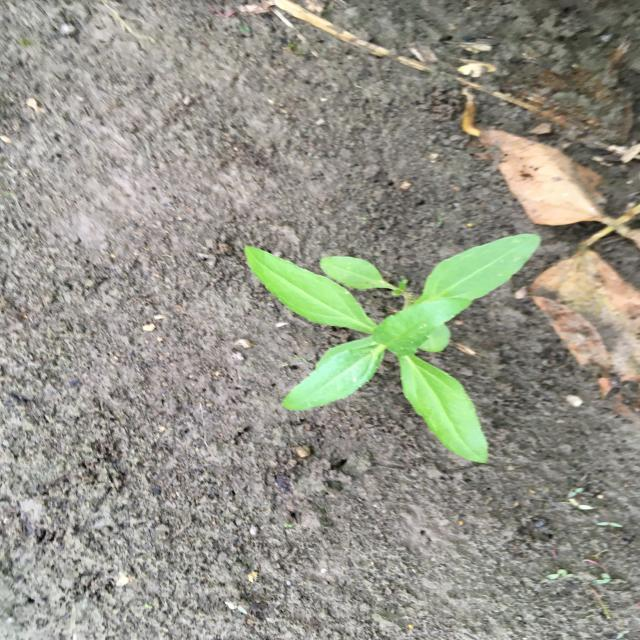Eclipta: (243, 232, 543, 464)
